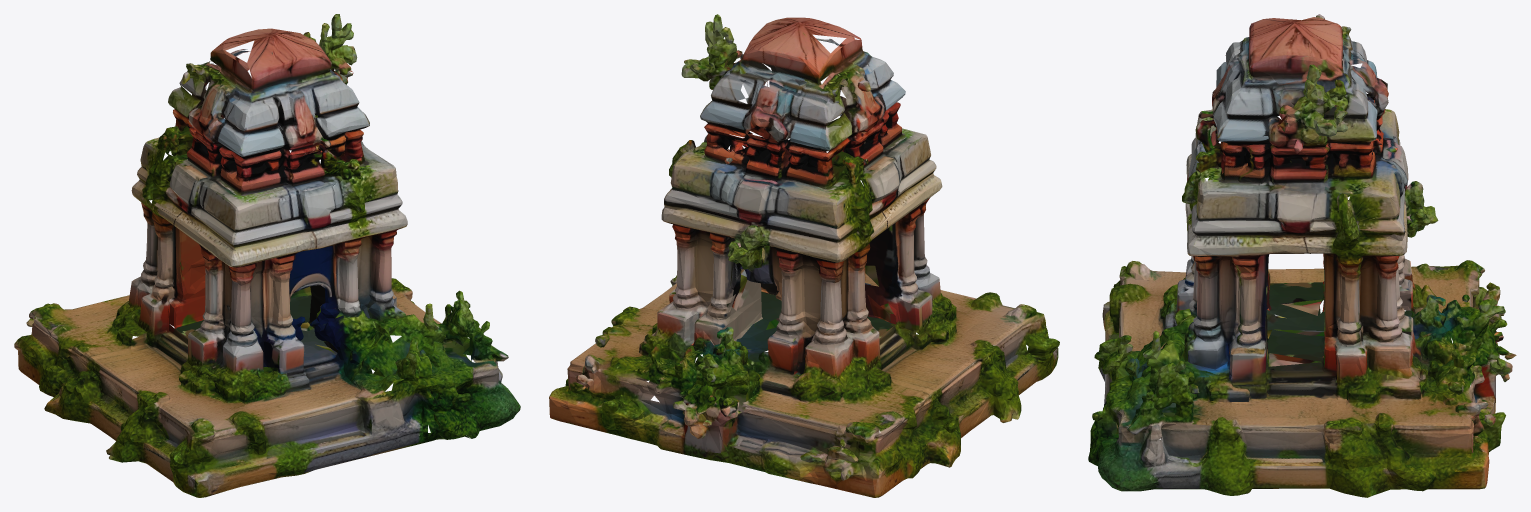
The model's file is ruined-gopuram-tier-segment-optimized.glb.
The picture shows the model from 3 angles, left to right: view 1: azimuth 30°, elevation 25°; view 2: azimuth 150°, elevation 25°; view 3: azimuth 270°, elevation 25°; orthographic projection. The views are drawn at different scales.
Visible parts, largest first — view 1: 489234c3-bcb2-4ff9-b654-86e1b28619bc_texturing.obj; view 2: 489234c3-bcb2-4ff9-b654-86e1b28619bc_texturing.obj; view 3: 489234c3-bcb2-4ff9-b654-86e1b28619bc_texturing.obj.
Boxes of the visible parts, box(x1,y1,x2,y2) form: 489234c3-bcb2-4ff9-b654-86e1b28619bc_texturing.obj: box(14, 14, 520, 497); 489234c3-bcb2-4ff9-b654-86e1b28619bc_texturing.obj: box(549, 14, 1059, 497); 489234c3-bcb2-4ff9-b654-86e1b28619bc_texturing.obj: box(1088, 14, 1516, 497).
Size of the model in its own units: 4.5 by 4.27 by 4.3.
Materials: 1 (1 with a texture image).
